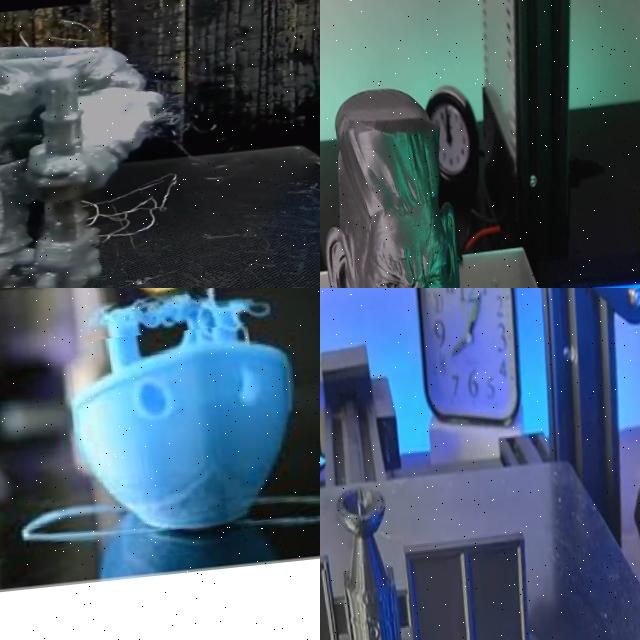spaghetti: (54, 173, 206, 247), (85, 288, 285, 339)
